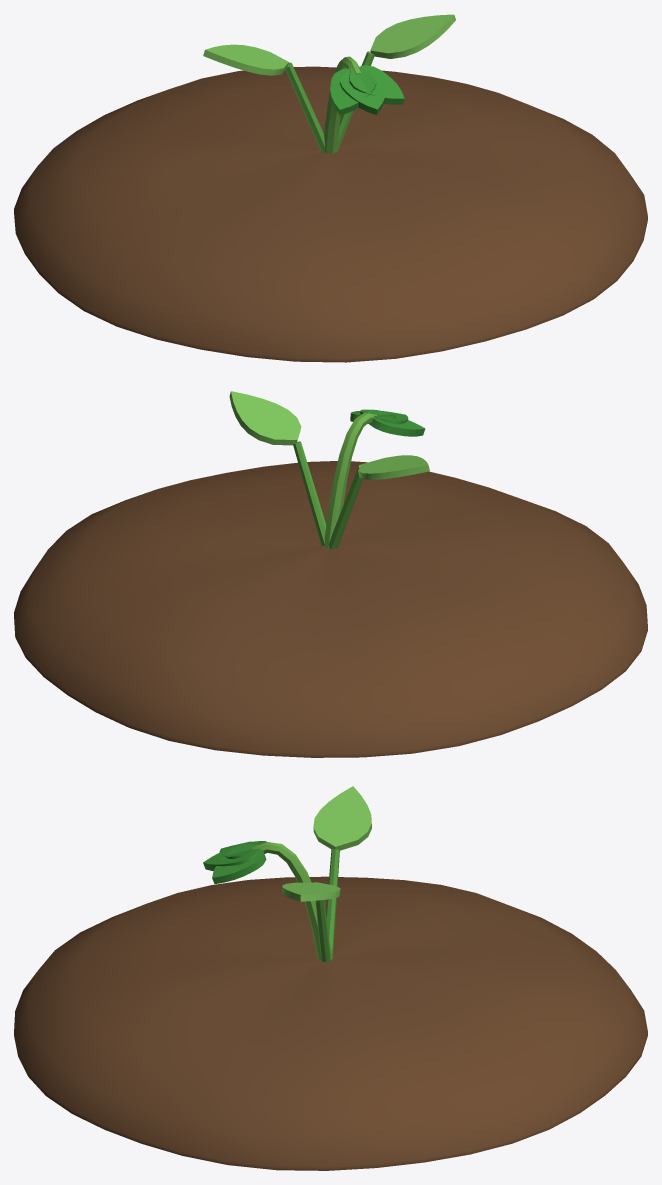
3 views of the same model, one above another, from view 1: azimuth 30°, elevation 25°; view 2: azimuth 150°, elevation 25°; view 3: azimuth 270°, elevation 25° (orthographic).
Visible parts, largest first — view 1: body; view 2: body; view 3: body.
Boxes of the visible parts, box(x1,y1,x2,y2) form: body: box(14, 14, 647, 362); body: box(14, 391, 647, 757); body: box(14, 786, 647, 1170).
Bounding box in the file's own units: 0.26 × 0.0883 × 0.26.
1 material, 1 textured.
